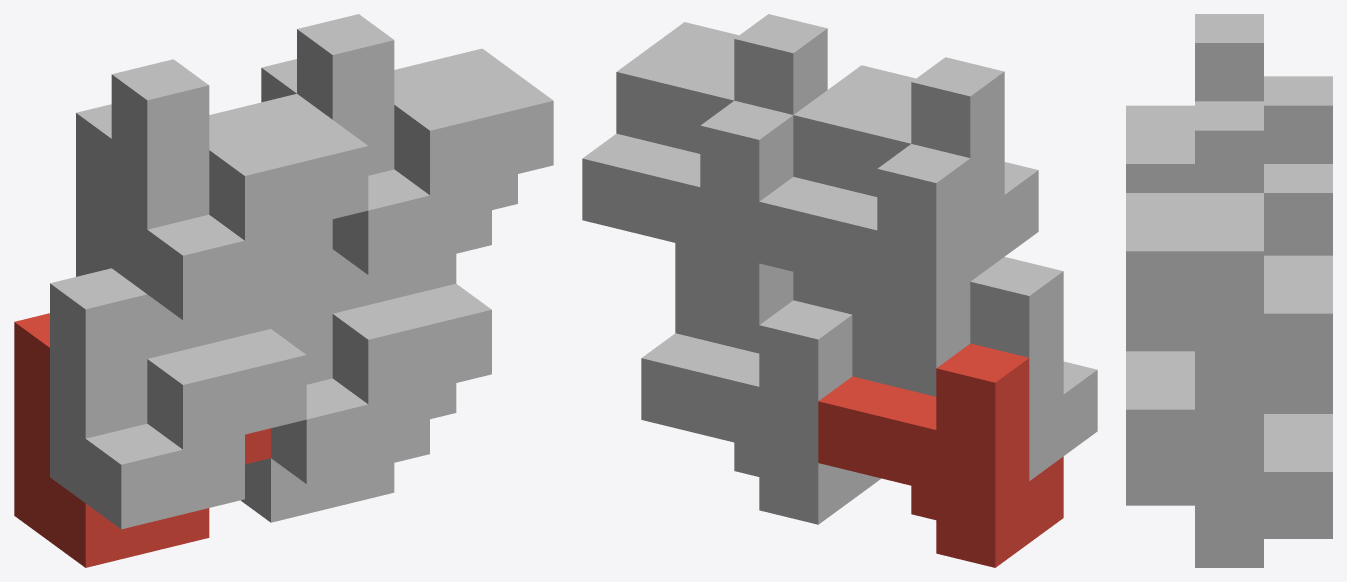
File: tiling.obj
The picture shows the model from 3 angles, left to right: view 1: azimuth 30°, elevation 25°; view 2: azimuth 150°, elevation 25°; view 3: azimuth 270°, elevation 25°; orthographic projection. The views are drawn at different scales.
Visible parts, largest first — view 1: copy_1_domain_4, copy_1_domain_2, copy_1_domain_8, copy_1_domain_6, copy_1_domain_1, copy_1_domain_3, copy_1_domain_5, copy_1_domain_7; view 2: copy_1_domain_1, copy_1_domain_3, copy_1_domain_5, copy_1_domain_7, copy_1_domain_4, copy_1_domain_8, copy_1_domain_2, copy_1_domain_6; view 3: copy_1_domain_8, copy_1_domain_7, copy_1_domain_5, copy_1_domain_6, copy_1_domain_4, copy_1_domain_3, copy_1_domain_2.
Part boxes in pixels (x1=…): copy_1_domain_4: x1=111, y1=59, x2=368, y2=320; copy_1_domain_2: x1=50, y1=268, x2=306, y2=529; copy_1_domain_8: x1=297, y1=14, x2=553, y2=274; copy_1_domain_6: x1=271, y1=249, x2=491, y2=483; copy_1_domain_1: x1=14, y1=313, x2=270, y2=567; copy_1_domain_3: x1=76, y1=104, x2=332, y2=358; copy_1_domain_5: x1=241, y1=383, x2=456, y2=522; copy_1_domain_7: x1=261, y1=59, x2=517, y2=313; copy_1_domain_1: x1=818, y1=343, x2=1063, y2=567; copy_1_domain_3: x1=759, y1=144, x2=970, y2=368; copy_1_domain_5: x1=641, y1=300, x2=881, y2=524; copy_1_domain_7: x1=582, y1=100, x2=793, y2=324; copy_1_domain_4: x1=793, y1=57, x2=1038, y2=281; copy_1_domain_8: x1=616, y1=14, x2=827, y2=153; copy_1_domain_2: x1=852, y1=257, x2=1097, y2=480; copy_1_domain_6: x1=675, y1=271, x2=852, y2=353; copy_1_domain_8: x1=1126, y1=101, x2=1263, y2=347; copy_1_domain_7: x1=1195, y1=164, x2=1332, y2=409; copy_1_domain_5: x1=1195, y1=380, x2=1332, y2=567; copy_1_domain_6: x1=1126, y1=351, x2=1263, y2=505; copy_1_domain_4: x1=1126, y1=14, x2=1263, y2=192; copy_1_domain_3: x1=1264, y1=76, x2=1332, y2=163; copy_1_domain_2: x1=1126, y1=347, x2=1194, y2=351.
Bounding box in the file's own units: 7 × 7 × 3.
